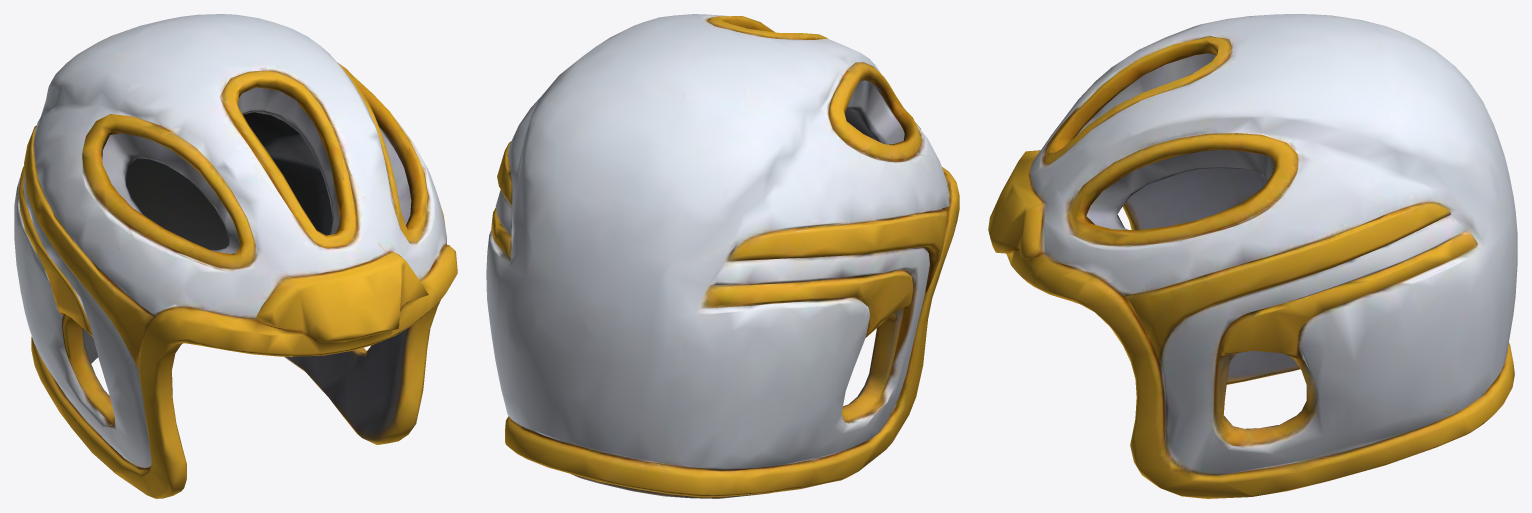
File: helmet-gold.glb
3 views of the same model, side by side, from view 1: azimuth 30°, elevation 25°; view 2: azimuth 150°, elevation 25°; view 3: azimuth 270°, elevation 25° (orthographic). The views are drawn at different scales.
Parts seen in each view (by area): view 1: helmet-gold; view 2: helmet-gold; view 3: helmet-gold.
Part boxes in pixels (x1=…): helmet-gold: x1=14, y1=14, x2=457, y2=498; helmet-gold: x1=486, y1=14, x2=959, y2=498; helmet-gold: x1=988, y1=14, x2=1517, y2=498.
Bounding box in the file's own units: 0.7867 × 0.8361 × 1.
1 material, 1 textured.
